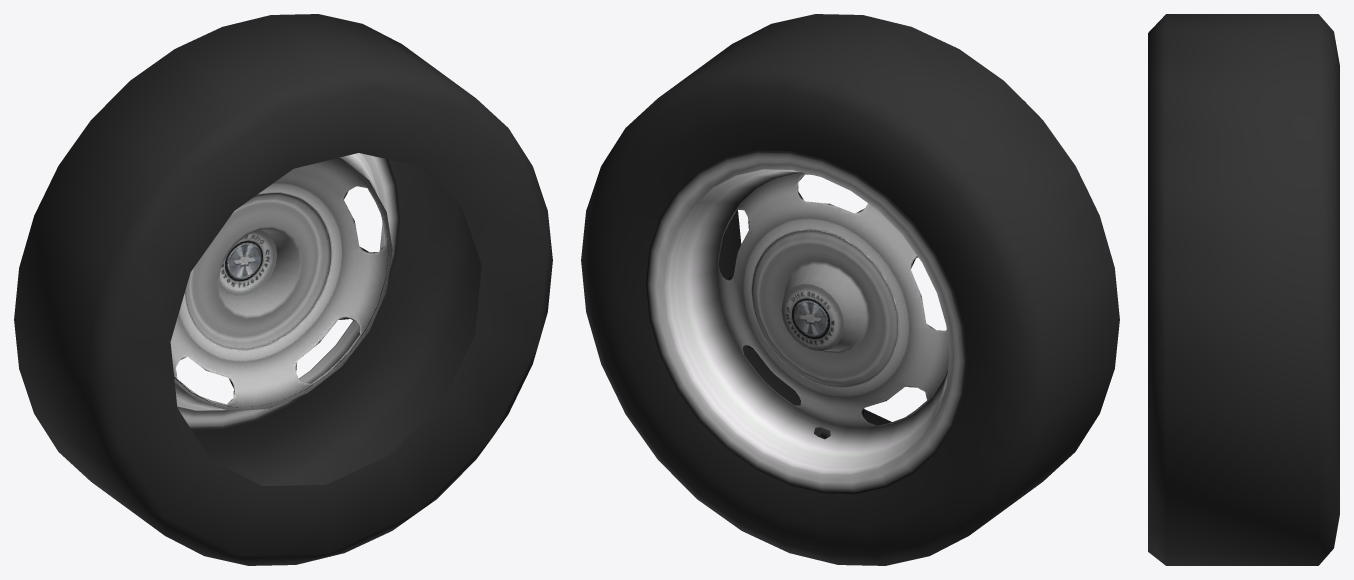
The model's file is Wheel.fbx.
3 views of the same model, side by side, from view 1: azimuth 30°, elevation 25°; view 2: azimuth 150°, elevation 25°; view 3: azimuth 270°, elevation 25° (orthographic). The views are drawn at different scales.
Visible parts, largest first — view 1: KIT00_FRONT_TIRE_A.002; view 2: KIT00_FRONT_TIRE_A.002; view 3: KIT00_FRONT_TIRE_A.002.
Boxes of the visible parts, bbox=[...] form: KIT00_FRONT_TIRE_A.002: bbox=[14, 14, 552, 565]; KIT00_FRONT_TIRE_A.002: bbox=[581, 14, 1119, 565]; KIT00_FRONT_TIRE_A.002: bbox=[1148, 14, 1339, 565].
Size of the model in its own units: 64.34 by 63.99 by 22.29.
